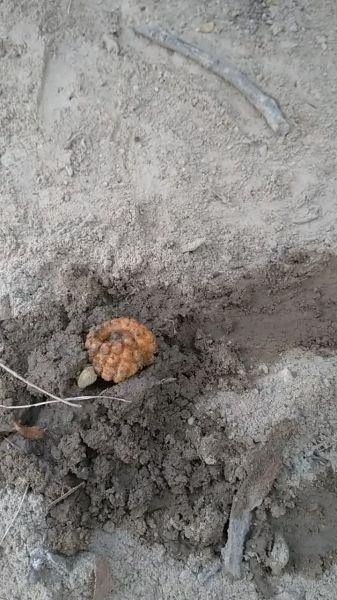eggs: (80, 313, 163, 385)
